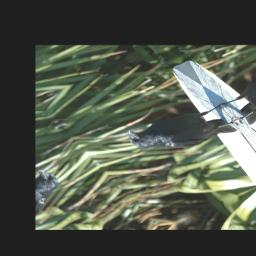Crow: (122, 95, 244, 168)
